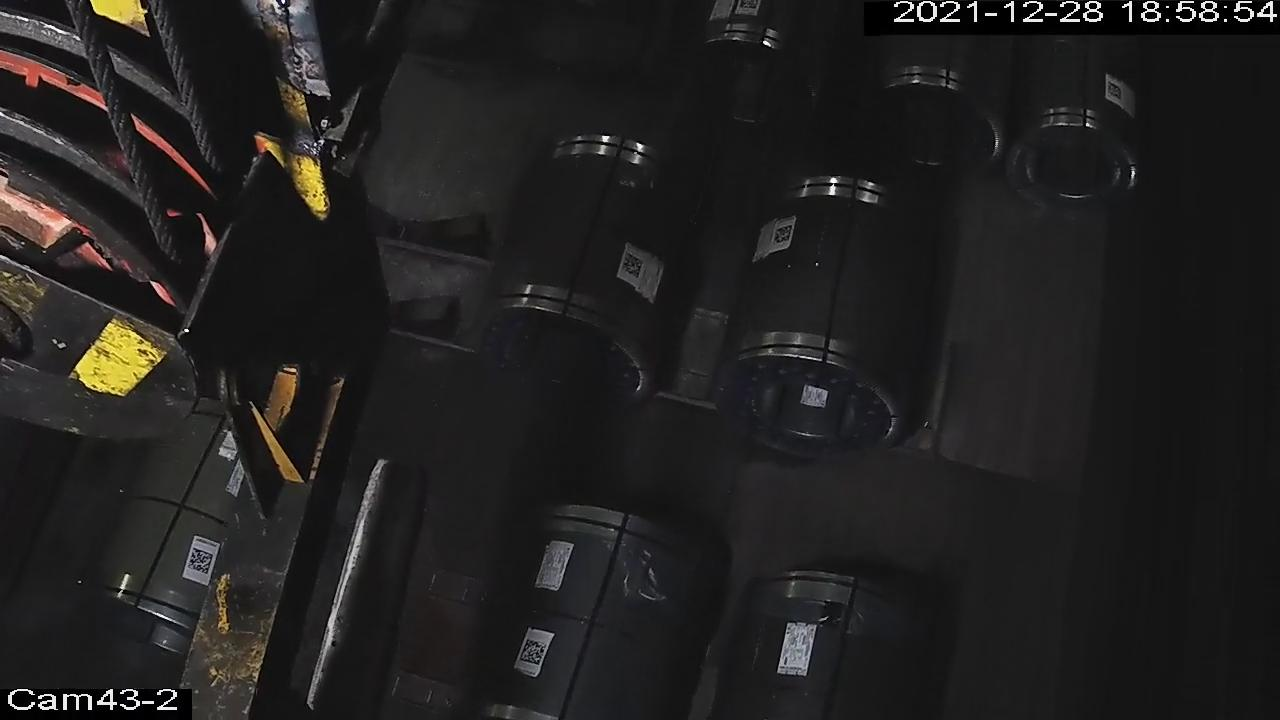data matrix: (186, 544, 216, 577), (517, 638, 549, 668), (620, 248, 646, 280), (772, 223, 797, 250), (1106, 79, 1124, 102)
